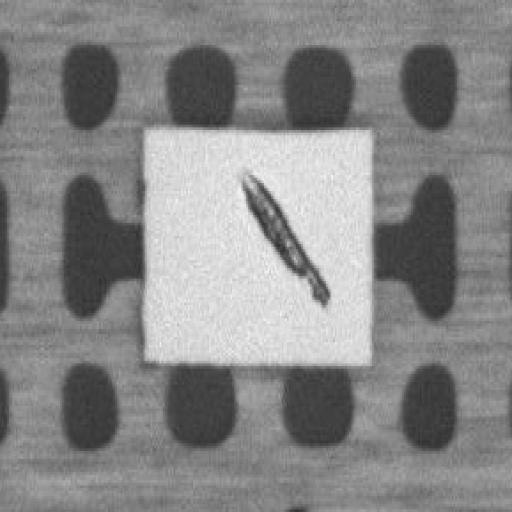DIE_INK: (239, 167, 328, 300)
